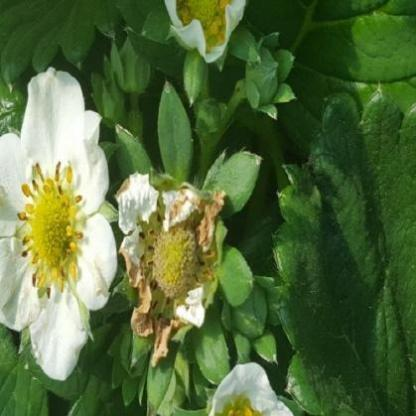Strawberry_Blossom_Blight: (132, 196, 216, 322), (15, 158, 87, 302)
